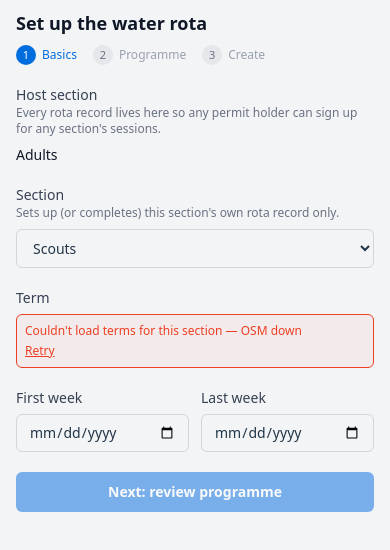
RotaSetupWizard — term loading (B4) › shows a retryable error when the term fetch fails, distinct from "this section has no terms"
Expected: the dropdown labelled "Section" shows "Scouts", [16,229,374,268]
Expected: the text "Couldn't load terms for this section — OSM down" is shown, [25,322,302,339]
Step 1. Click the button "Retry" → x=40, y=351, box [25,343,55,359]
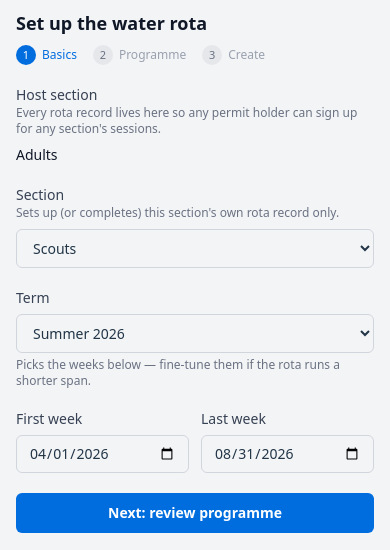
Expected: the dropdown labelled "Term" shows "Summer 2026", [16,314,374,353]
